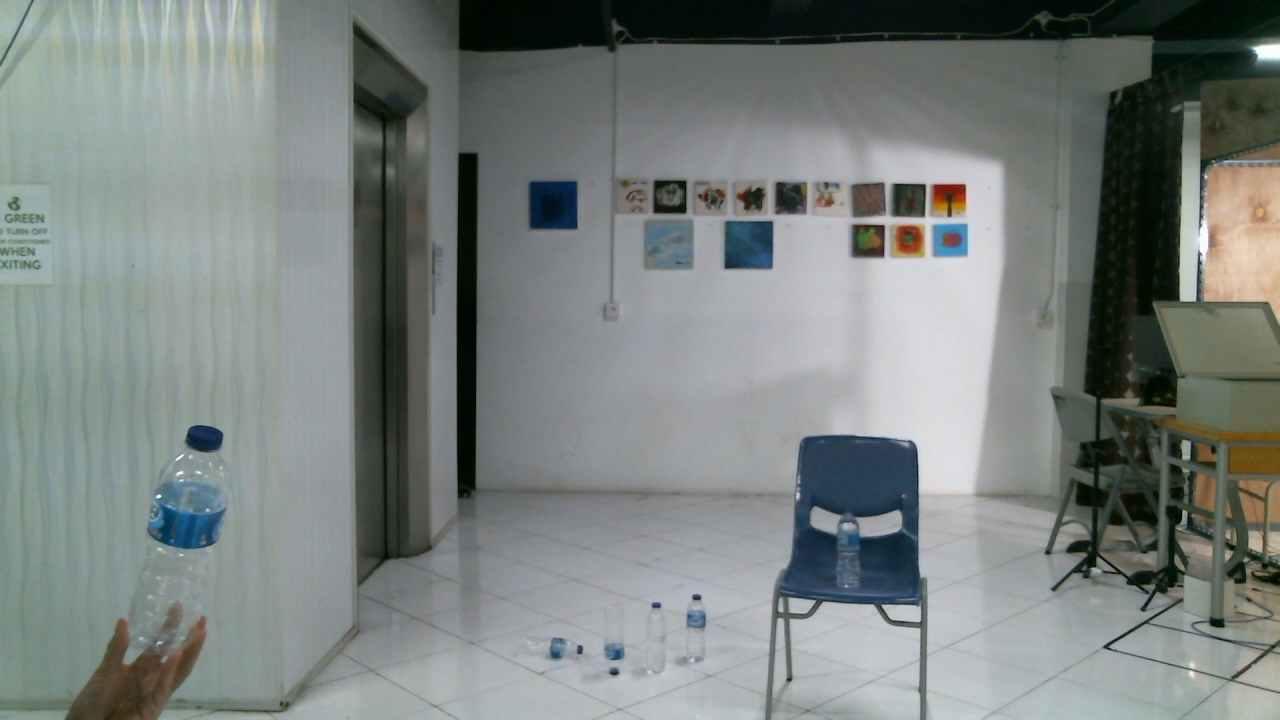Bottle: (125, 421, 229, 657)
